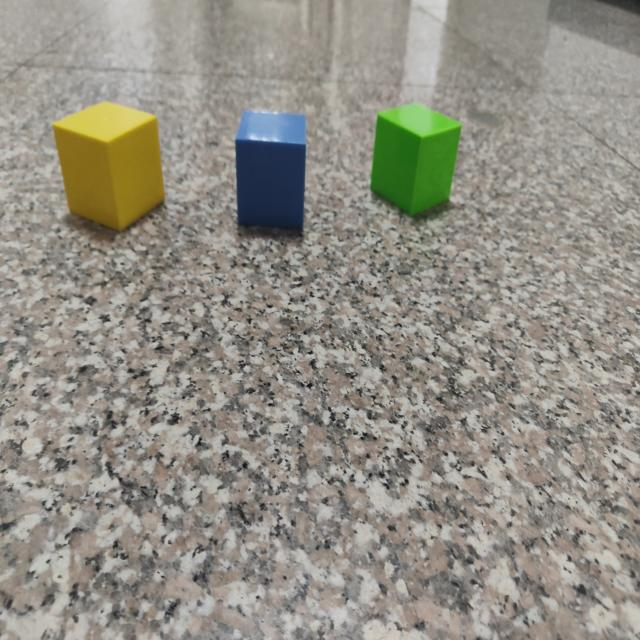blue: (234, 110, 308, 237)
green: (370, 104, 462, 218)
yellow: (52, 103, 166, 234)
